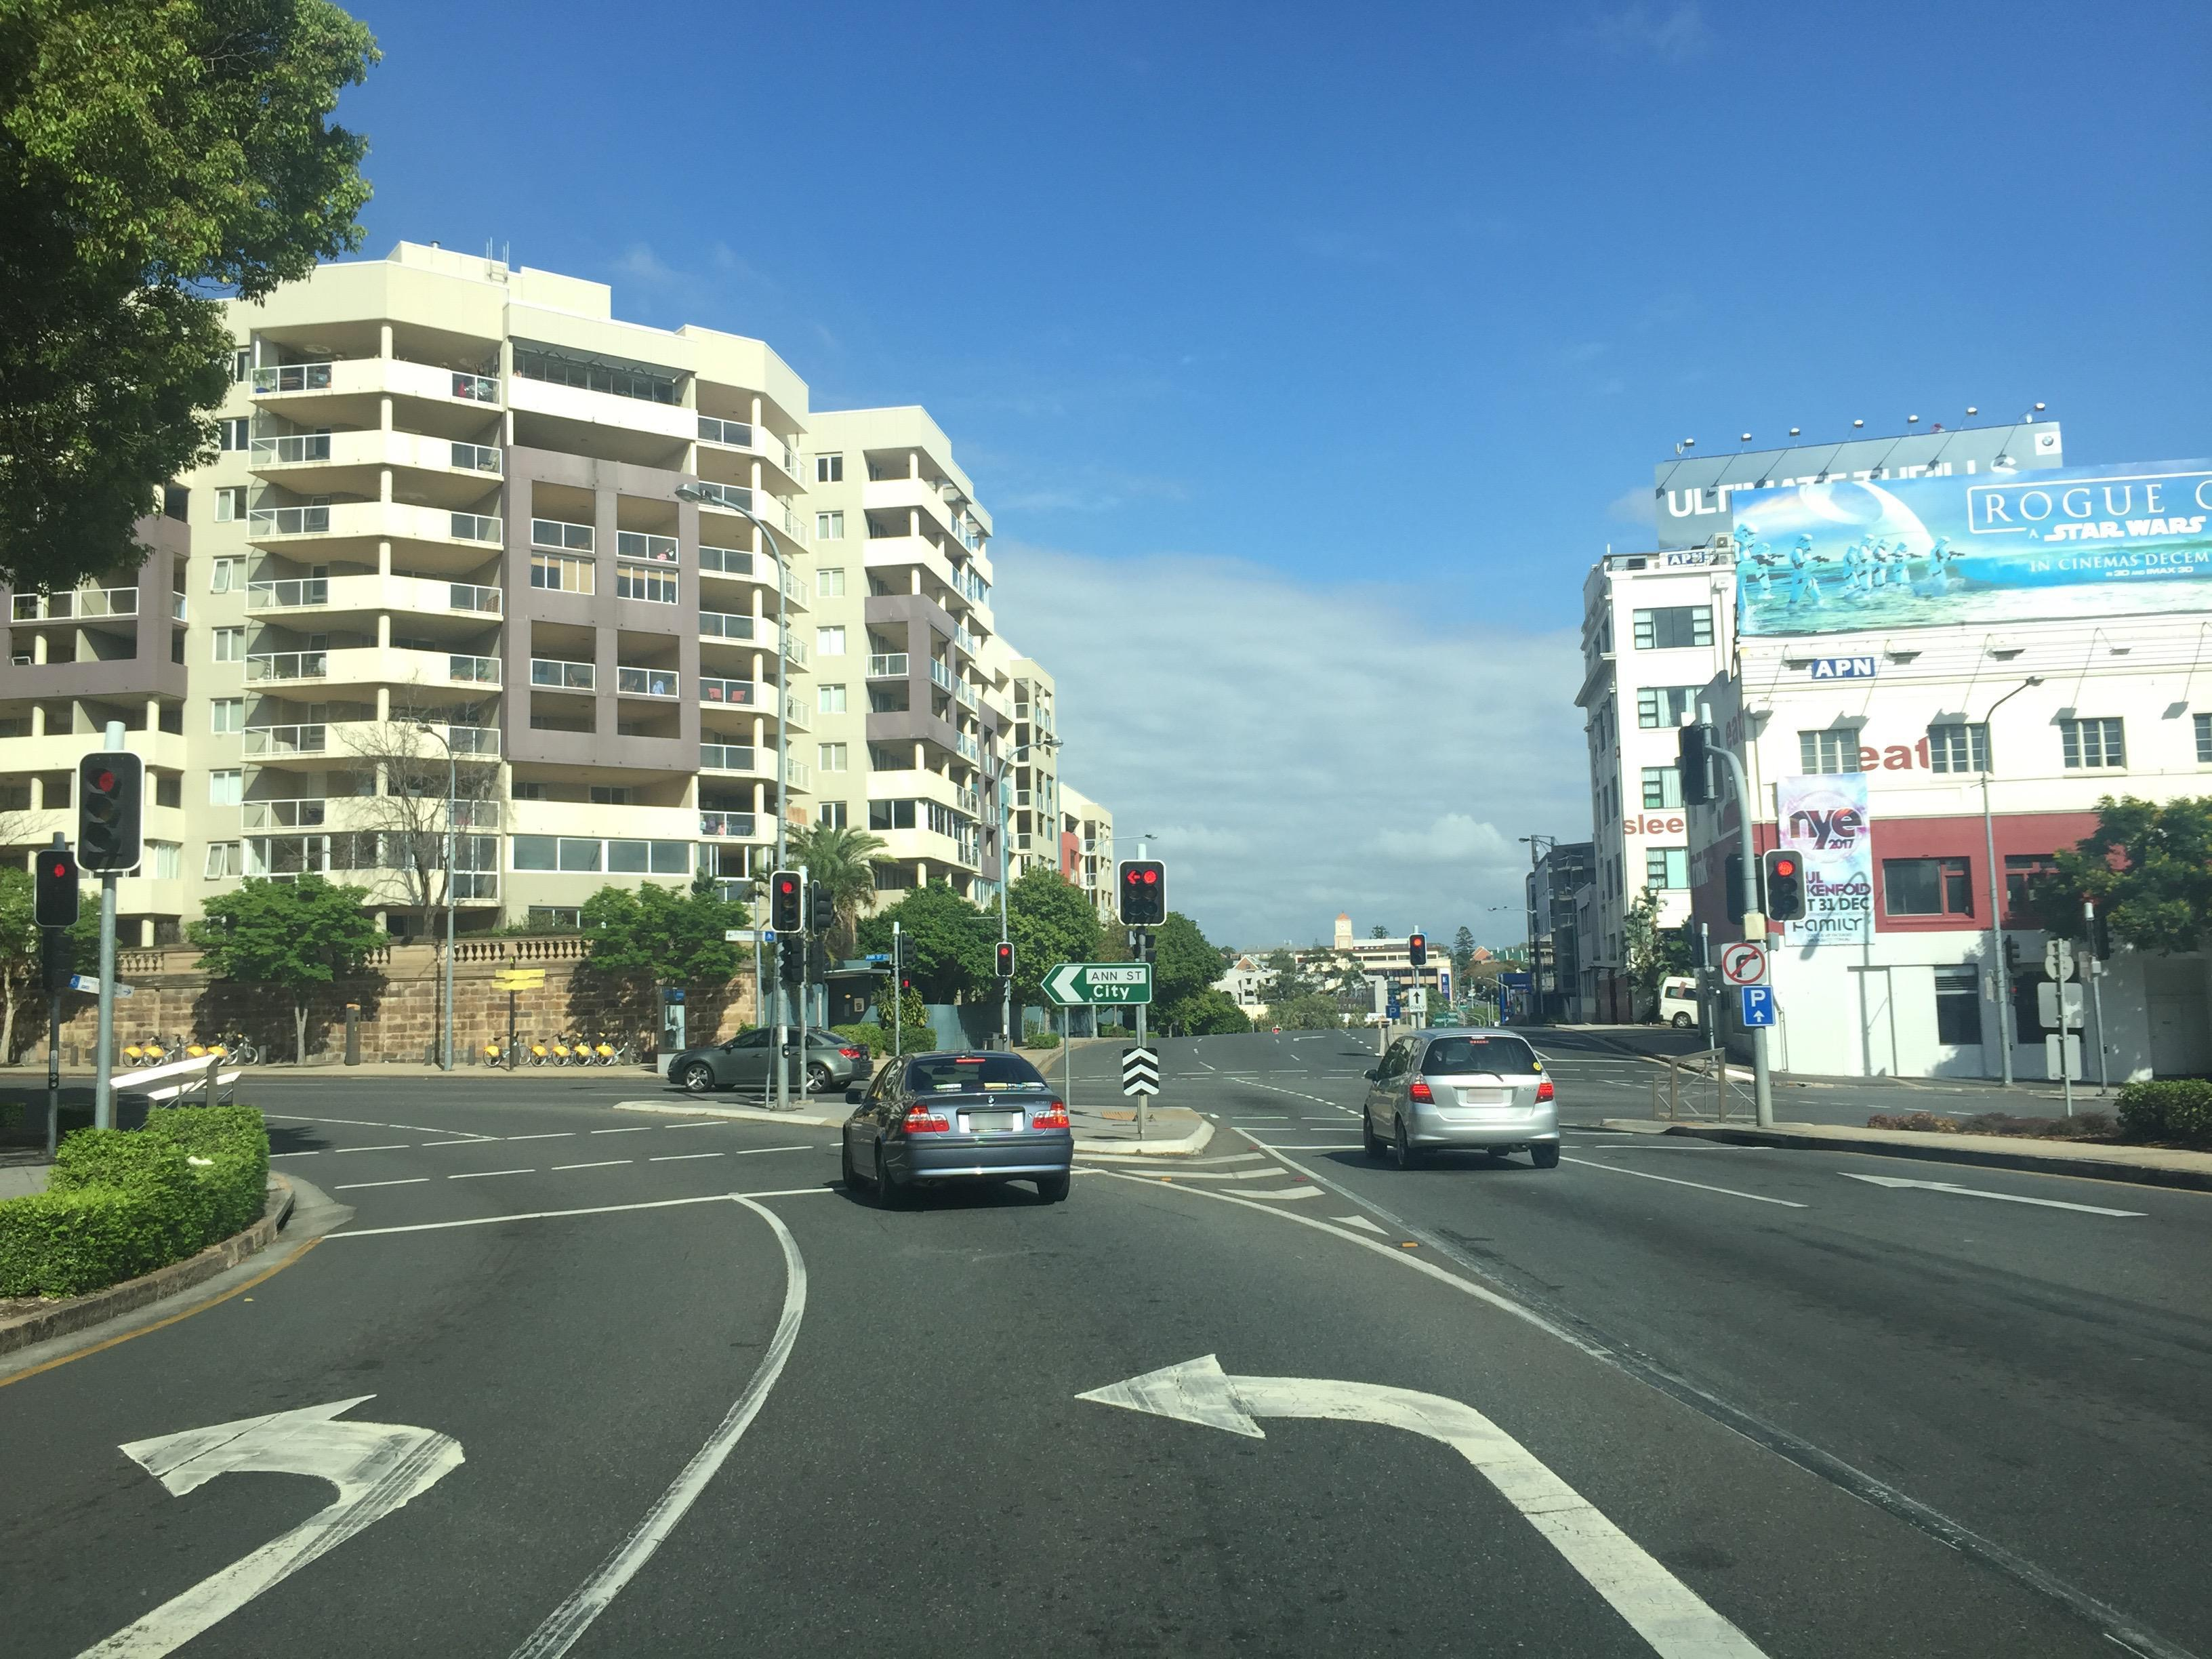vinyl banner: (1757, 758, 1907, 958)
